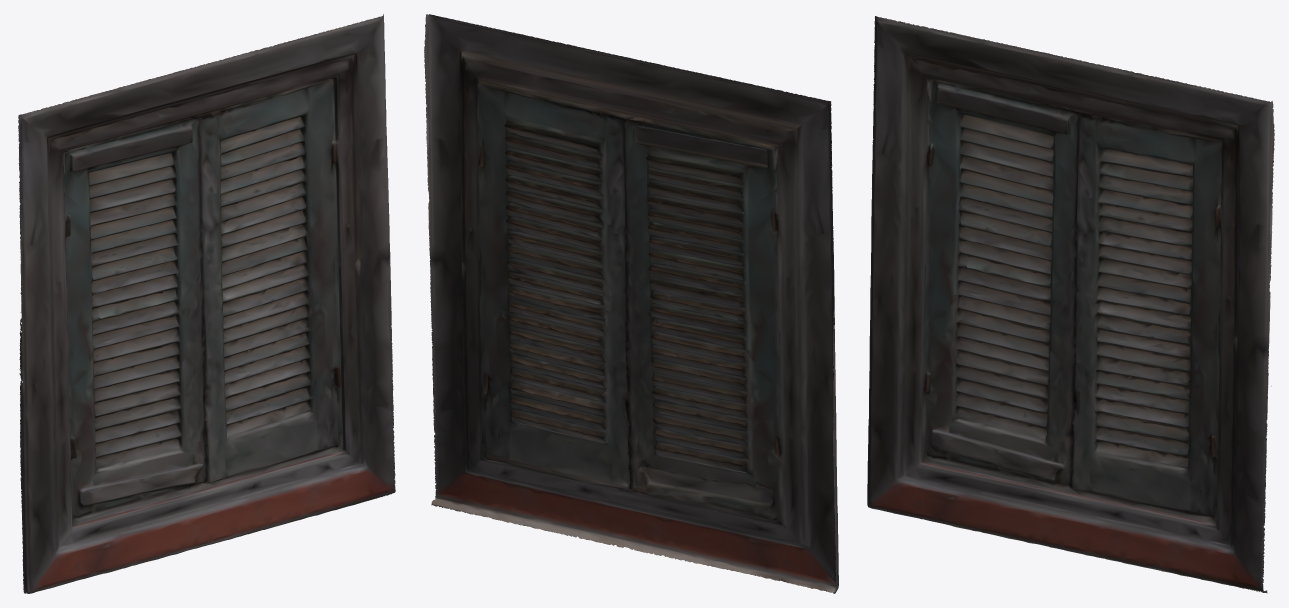
File: window-maybe.fbx
3 renders of one model, left to right at view 1: azimuth 30°, elevation 25°; view 2: azimuth 150°, elevation 25°; view 3: azimuth 330°, elevation 25°, orthographic. The views are drawn at different scales.
Parts seen in each view (by area): view 1: window_fix; view 2: window_fix; view 3: window_fix.
Boxes of the visible parts, left/top/right/bottom form: window_fix: left=18, top=14, right=395, bottom=593; window_fix: left=424, top=14, right=838, bottom=593; window_fix: left=867, top=16, right=1274, bottom=593.
Bounding box in the file's own units: 104 × 125 × 12.
